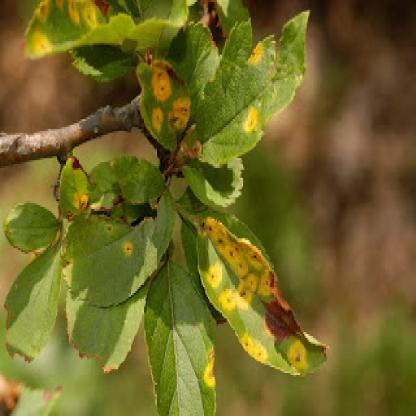Apple rust leaf: (192, 196, 338, 398), (182, 17, 338, 178), (57, 186, 181, 314), (125, 54, 203, 158)
